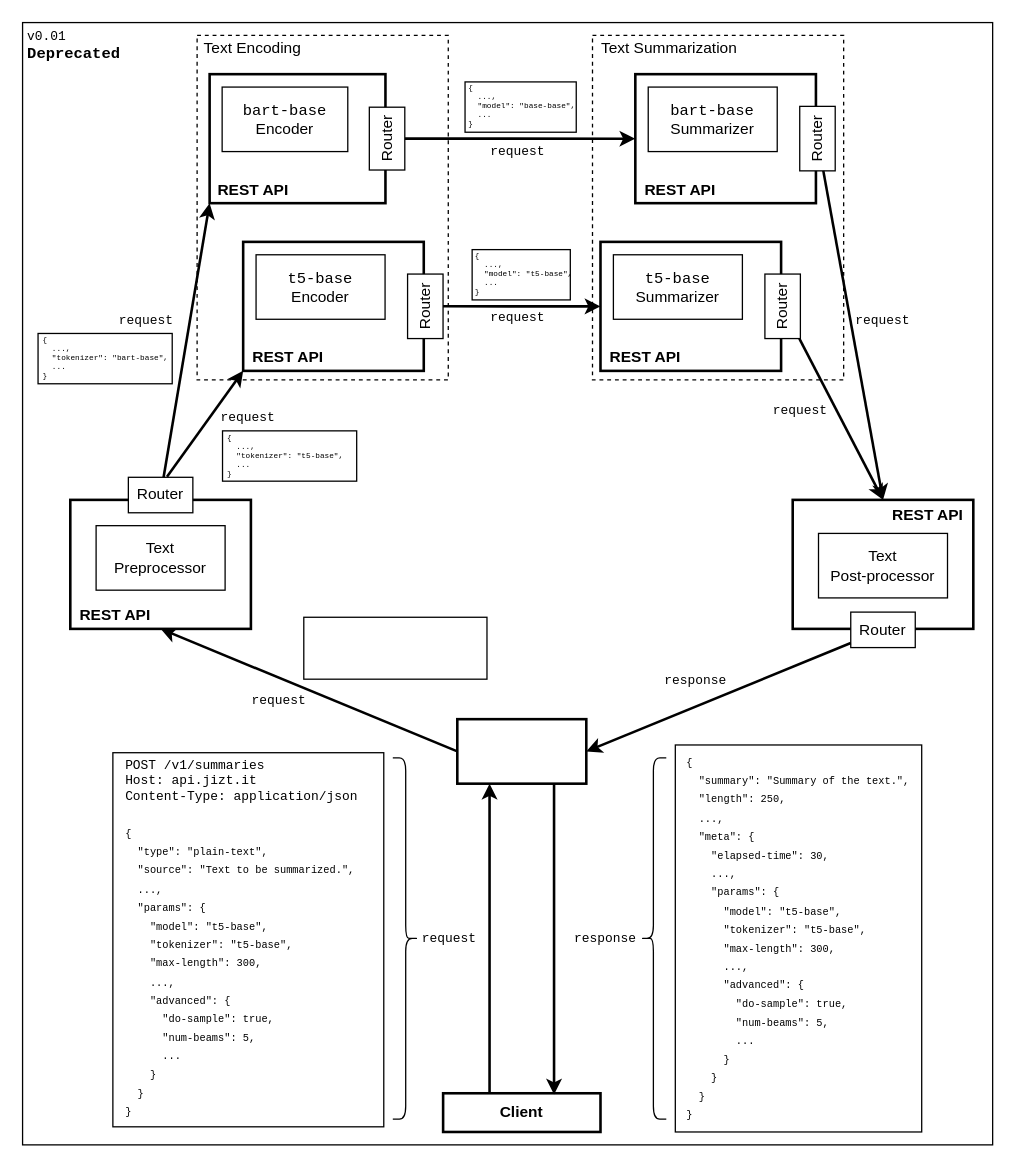
This 1015x1167 diagram has some shape labels left out. Here are the shapes that lost their labels. From the top down, the centre of each, then its label:
the point at 395,647: { "type": "plain-text", "source": "Text to be summarized.", ... }
the point at 521,750: API Gateway
